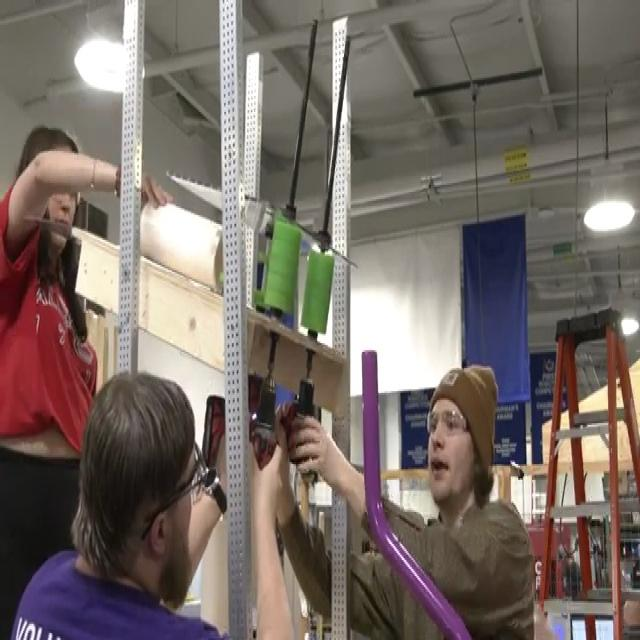Coral: (140, 204, 222, 288)
